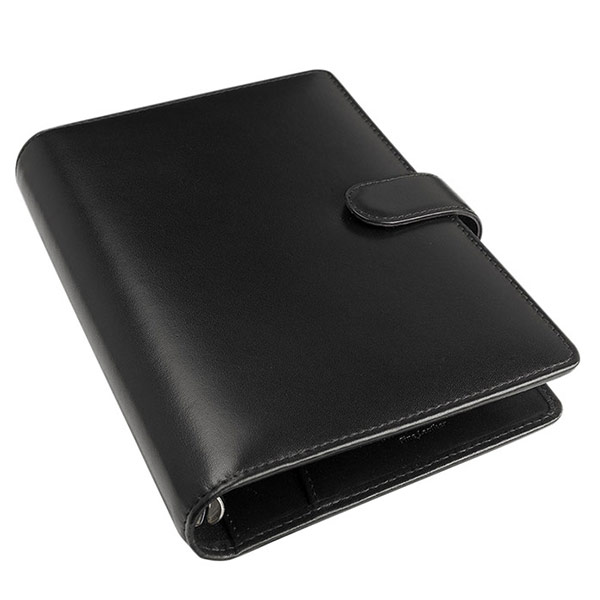monedero: (15, 68, 583, 564)
